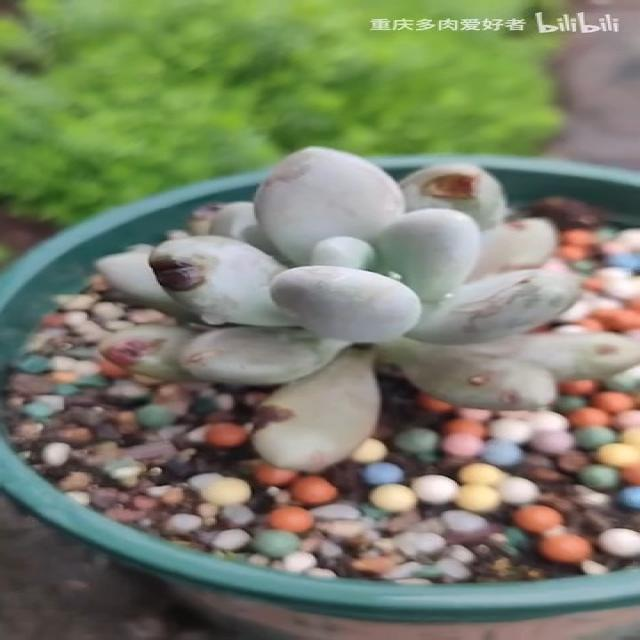-: (144, 252, 212, 296), (421, 172, 489, 202), (460, 370, 510, 390), (492, 390, 546, 408)
